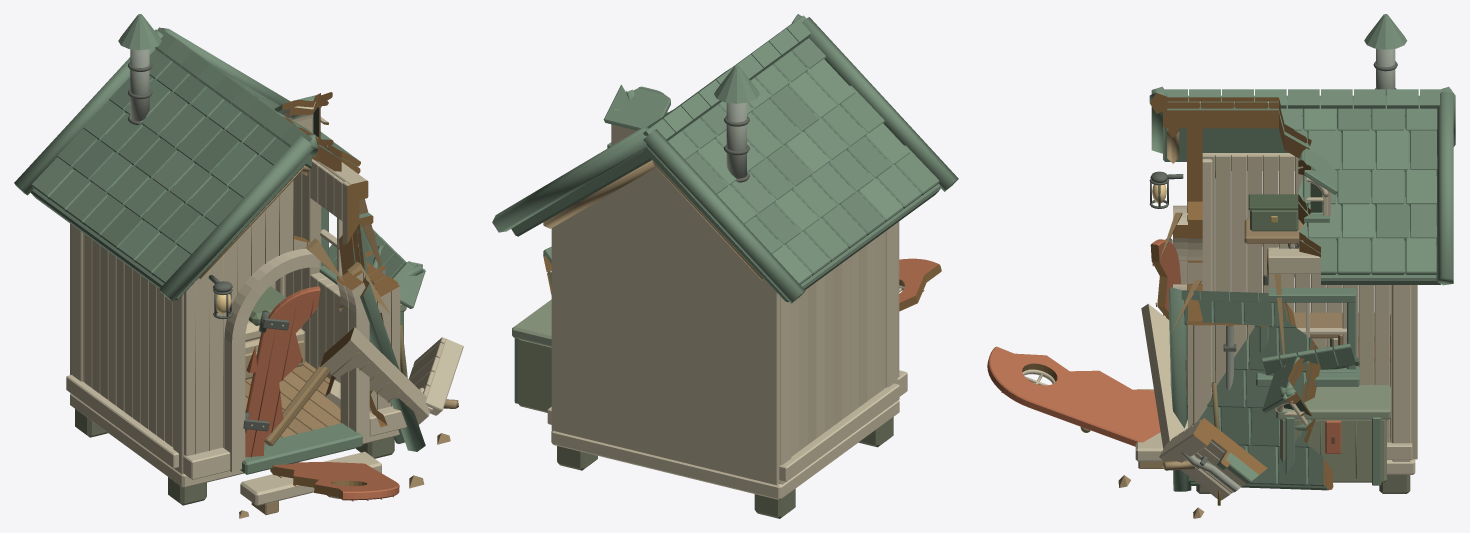
3 renders of one model, left to right at view 1: azimuth 30°, elevation 25°; view 2: azimuth 150°, elevation 25°; view 3: azimuth 270°, elevation 25°, orthographic. The views are drawn at different scales.
Visible parts, largest first — view 1: asset_root_geometry, roof_assembly, authored_static_debris, door_assembly, collapsed_roof_bay_001, collapsed_coral_door, window_awning; view 2: asset_root_geometry, roof_assembly, collapsed_coral_door; view 3: asset_root_geometry, roof_assembly, collapsed_roof_bay_001, collapsed_coral_door, authored_static_debris, window_awning, door_assembly.
Part boxes in pixels (x1=…): asset_root_geometry: x1=66, y1=159, x2=406, y2=514; roof_assembly: x1=14, y1=14, x2=360, y2=301; authored_static_debris: x1=239, y1=199, x2=463, y2=518; door_assembly: x1=243, y1=286, x2=320, y2=457; collapsed_roof_bay_001: x1=338, y1=223, x2=425, y2=451; collapsed_coral_door: x1=270, y1=462, x2=399, y2=501; window_awning: x1=328, y1=226, x2=406, y2=278; asset_root_geometry: x1=512, y1=167, x2=907, y2=518; roof_assembly: x1=492, y1=14, x2=958, y2=303; collapsed_coral_door: x1=899, y1=258, x2=941, y2=311; asset_root_geometry: x1=1135, y1=128, x2=1417, y2=505; roof_assembly: x1=1149, y1=14, x2=1455, y2=285; collapsed_roof_bay_001: x1=1168, y1=287, x2=1333, y2=491; collapsed_coral_door: x1=987, y1=346, x2=1160, y2=446; authored_static_debris: x1=1118, y1=212, x2=1285, y2=518; window_awning: x1=1261, y1=343, x2=1359, y2=375; door_assembly: x1=1150, y1=238, x2=1181, y2=319.
Size of the model in its own units: 0.3285 by 0.3915 by 0.4119.
